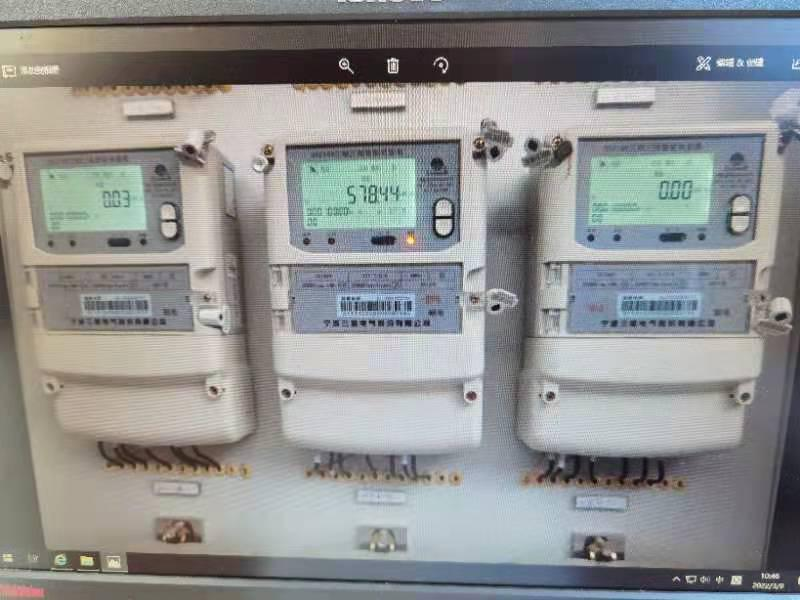digital: (536, 121, 781, 454), (265, 123, 484, 455), (11, 135, 231, 443)
